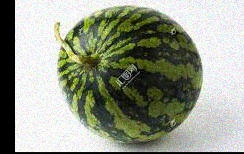watermelon: (51, 6, 202, 145)
